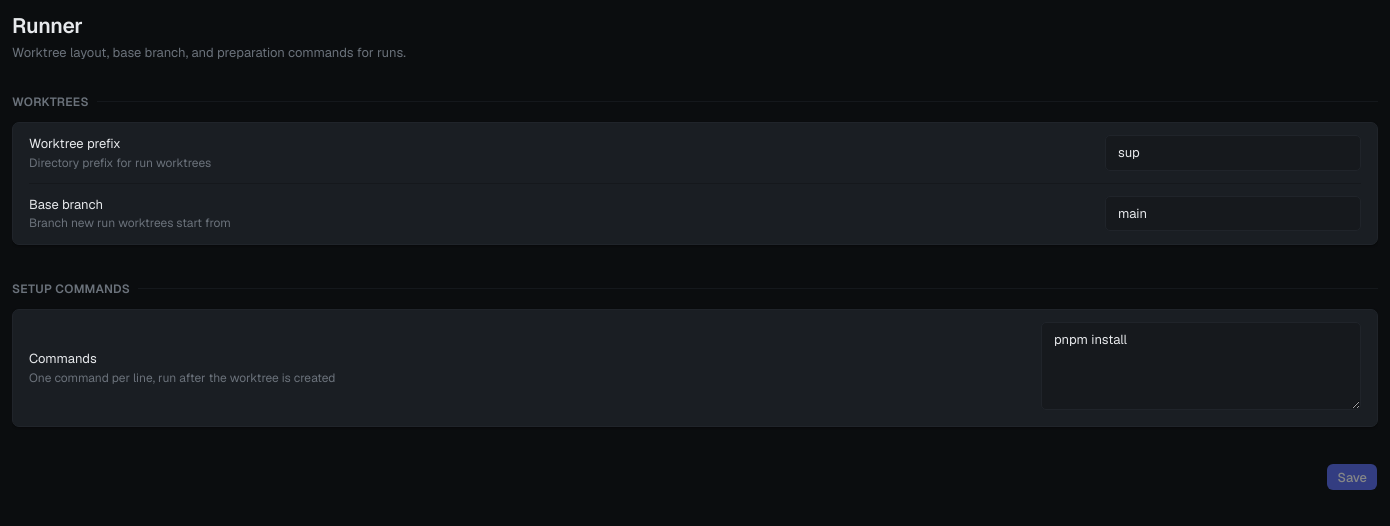
Test: SettingsPaneRunner › asks for a manual restart outside the desktop shell when a restart is required
Clear the field named "Base branch" at x=1233, y=214, box [1105,196,1361,231]
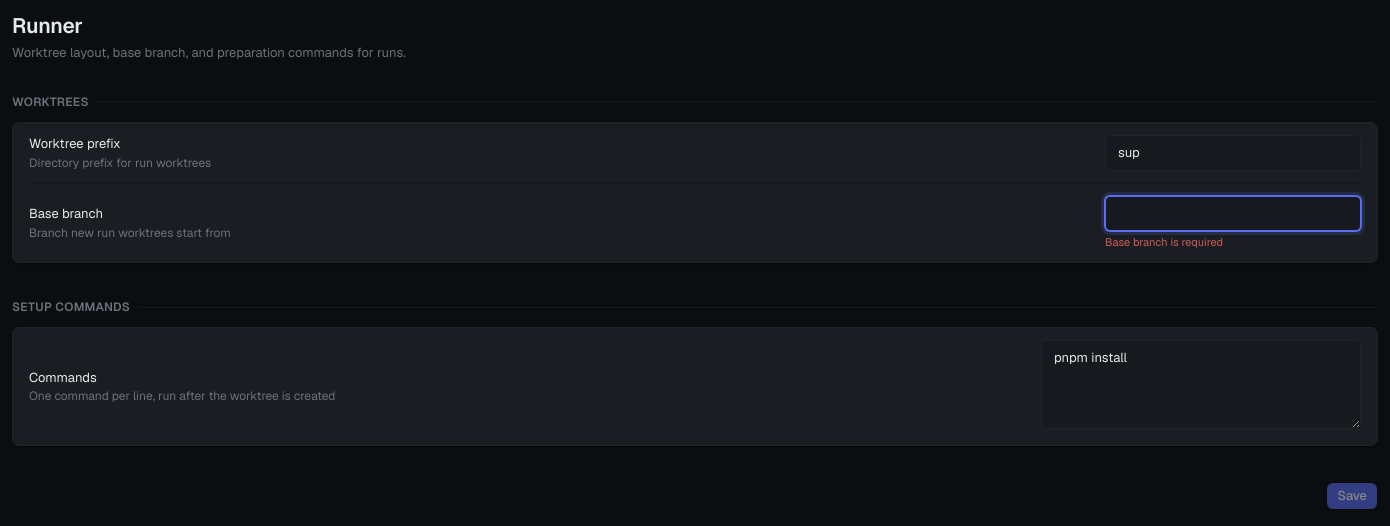
Type "develop" into the field named "Base branch" at x=1233, y=214, box [1105,196,1361,231]
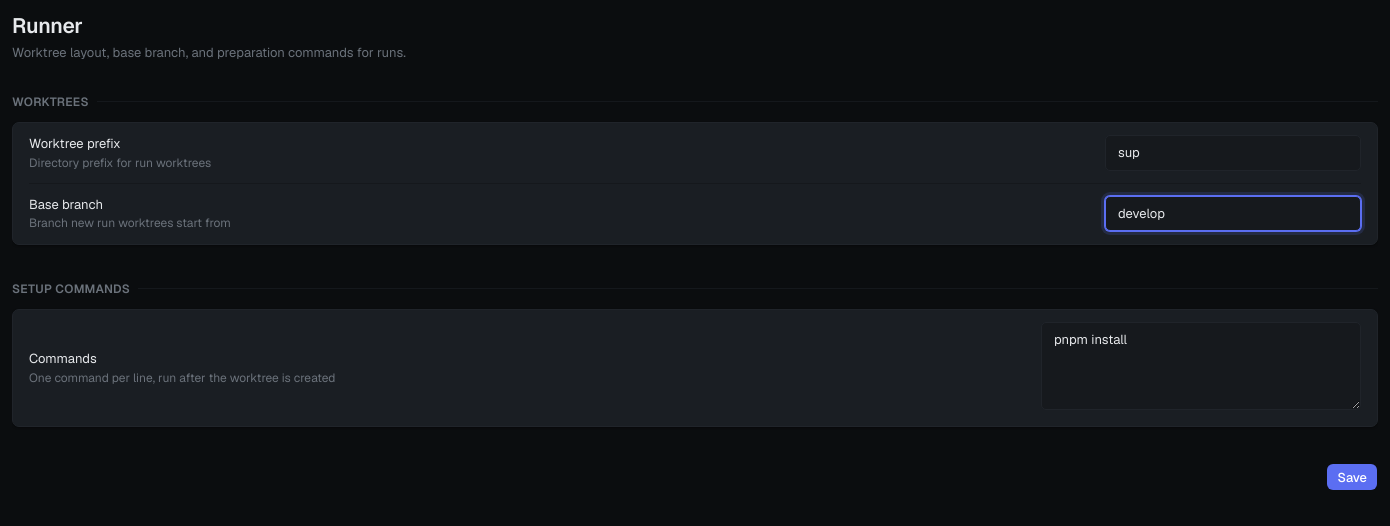
Click the button "Save" at x=1352, y=478, box [1326,464,1378,492]
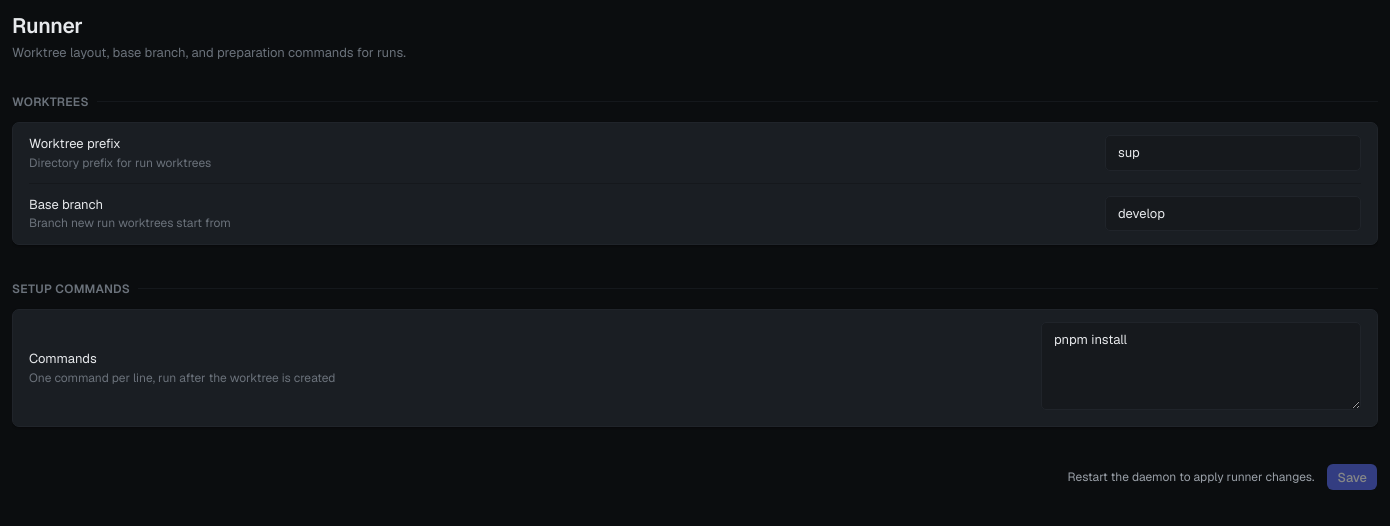
Expected: the text "Restart the daemon to apply runner changes." is shown, [1068,469,1314,486]
